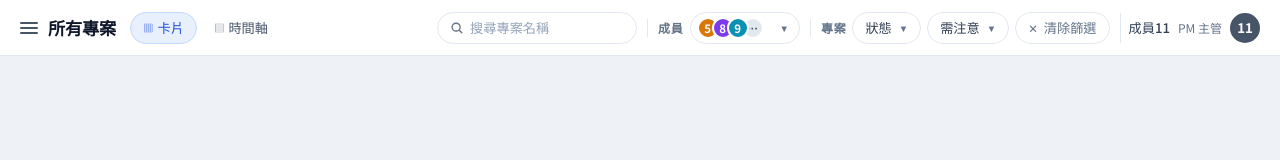
Test: OverviewTopBar › 搜尋框在篩選群組最前面；輸入寫進 store、清除篩選轉可點；有字才出現 ✕，點了清空
Type "app" into the search field with test id "overview-search" at (551, 28), box [470,12,632,42]
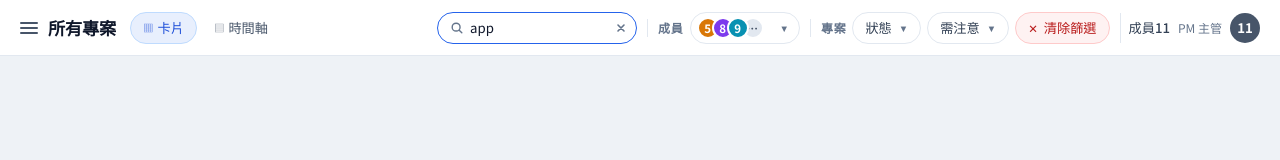
Expected: the button with test id "overview-clear" is enabled, [1015,12,1110,44]
Click the button with class "search-clear" at (621, 28), box [610,16,632,38]
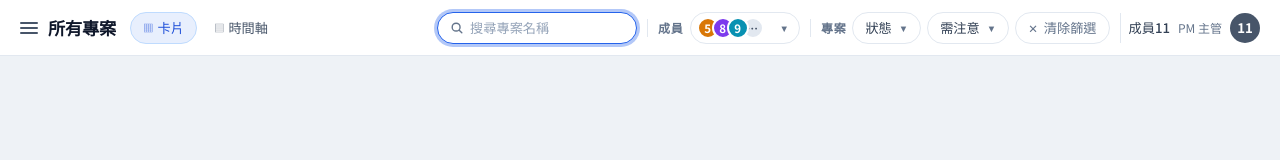
Expected: the search field with test id "overview-search" is empty, [470,12,632,42]
